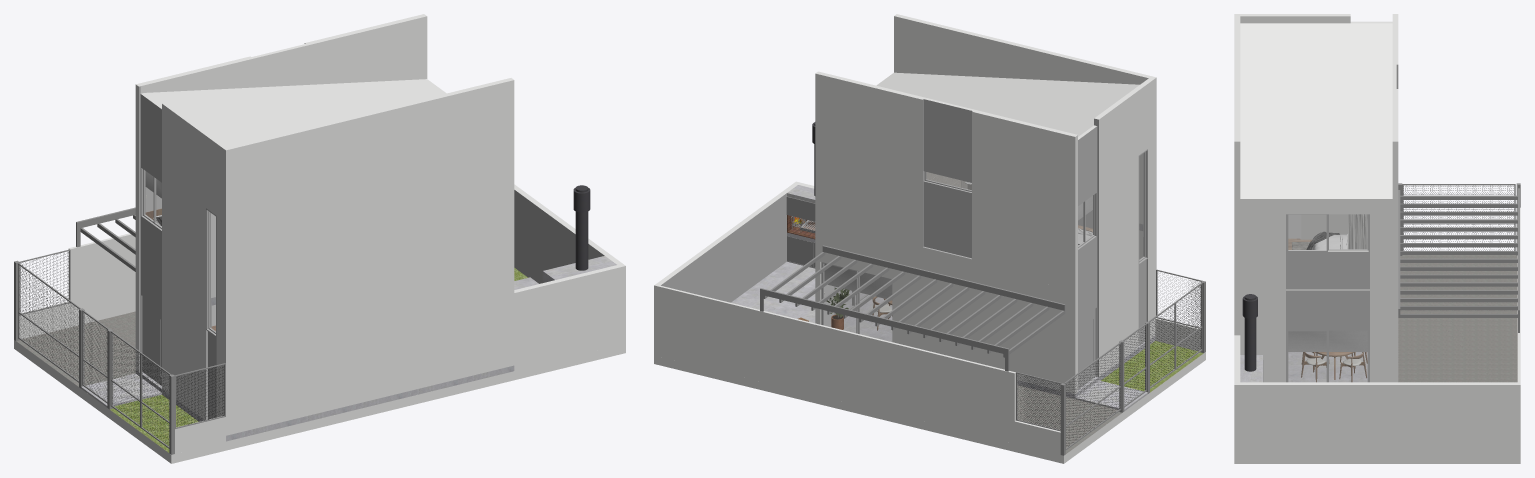
File: duplex-oro-3d.glb
The picture shows the model from 3 angles, left to right: view 1: azimuth 30°, elevation 25°; view 2: azimuth 150°, elevation 25°; view 3: azimuth 270°, elevation 25°; orthographic projection. The views are drawn at different scales.
Parts seen in each view (by area): view 1: Geom3D_ (×11), Geom3D (×7); view 2: Geom3D_ (×13), Geom3D (×9), Geom3D_Componente#2 (×2); view 3: Geom3D_ (×15), Geom3D (×9), Geom3D_Componente#1 (×16), Geom3D_Componente#2.
Part boxes in pixels (left/top/right/bottom): Geom3D_ (×11): left=14, top=14, right=625, bottom=463; Geom3D (×7): left=16, top=43, right=604, bottom=452; Geom3D_ (×13): left=654, top=14, right=1205, bottom=463; Geom3D (×9): left=661, top=99, right=1203, bottom=453; Geom3D_Componente#2 (×2): left=763, top=245, right=1065, bottom=354; Geom3D_ (×15): left=1234, top=14, right=1520, bottom=463; Geom3D (×9): left=1242, top=64, right=1517, bottom=382; Geom3D_Componente#1 (×16): left=1398, top=195, right=1517, bottom=317; Geom3D_Componente#2: left=1398, top=190, right=1400, bottom=314.
Size of what is drawn, in the model's own units: 12.5 by 7.89 by 7.5.
192 materials, 84 textured.
